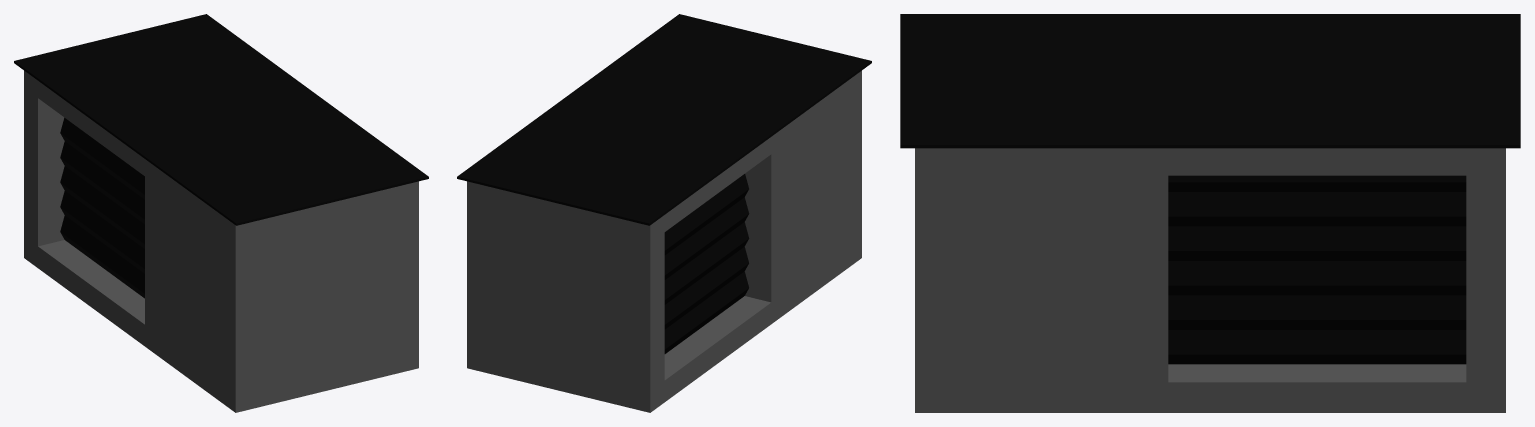
The model's file is objetdébut.fbx.
3 views of the same model, side by side, from view 1: azimuth 30°, elevation 25°; view 2: azimuth 150°, elevation 25°; view 3: azimuth 270°, elevation 25° (orthographic). The views are drawn at different scales.
Visible parts, largest first — view 1: Cube.248; view 2: Cube.248; view 3: Cube.248.
Part boxes in pixels (bbox=[...]): Cube.248: bbox=[14, 14, 428, 412]; Cube.248: bbox=[457, 14, 871, 412]; Cube.248: bbox=[900, 14, 1520, 412].
Size of the model in its own units: 1049 by 1012 by 2098.
